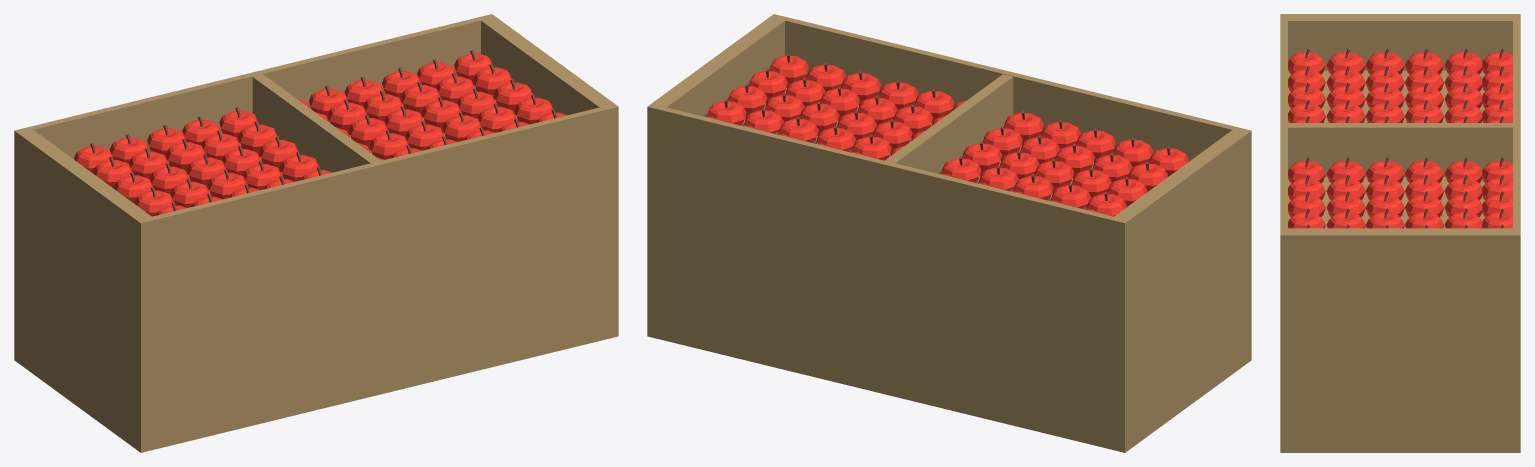
The model's file is red_apple_box.gltf.
3 views of the same model, side by side, from view 1: azimuth 30°, elevation 25°; view 2: azimuth 150°, elevation 25°; view 3: azimuth 270°, elevation 25° (orthographic). The views are drawn at different scales.
Visible parts, largest first — view 1: Cube.001; view 2: Cube.001; view 3: Cube.001.
Boxes of the visible parts, bbox=[...] form: Cube.001: bbox=[14, 14, 618, 452]; Cube.001: bbox=[647, 14, 1251, 452]; Cube.001: bbox=[1280, 14, 1520, 452].
Bounding box in the file's own units: 9.22 × 4.23 × 4.23.
2 materials, 1 textured.
